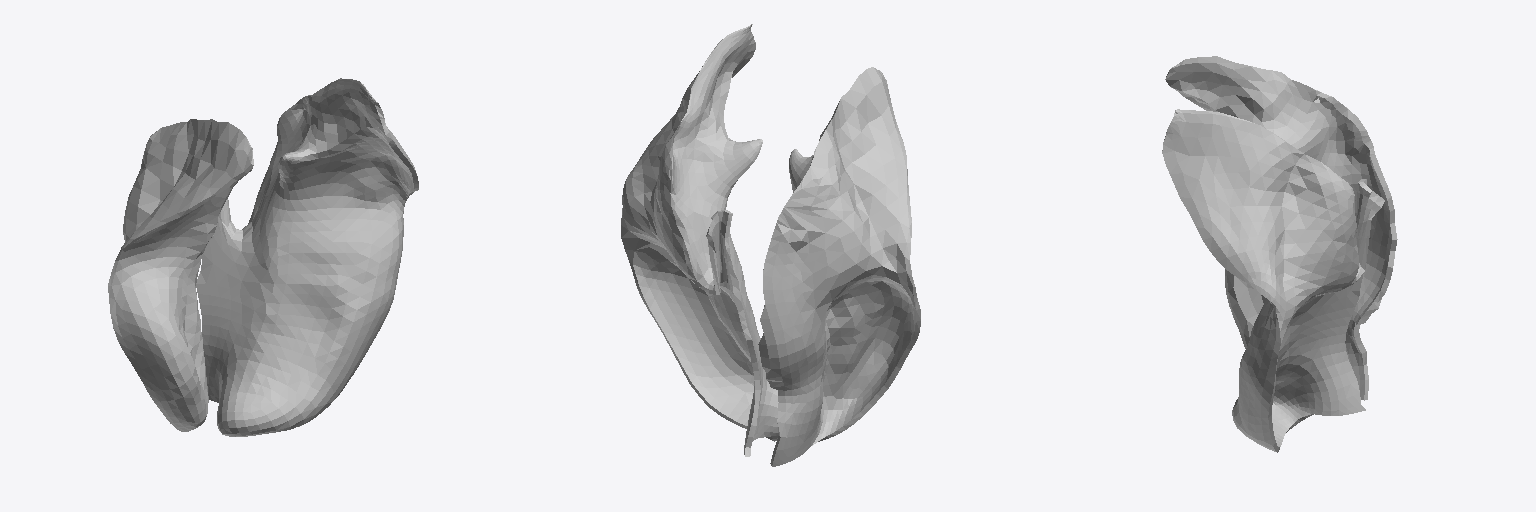
The model's file is PalateUnilat.obj.
3 renders of one model, left to right at view 1: azimuth 30°, elevation 25°; view 2: azimuth 150°, elevation 25°; view 3: azimuth 270°, elevation 25°, orthographic.
Bounding box in the file's own units: 3 × 3.46 × 2.05.